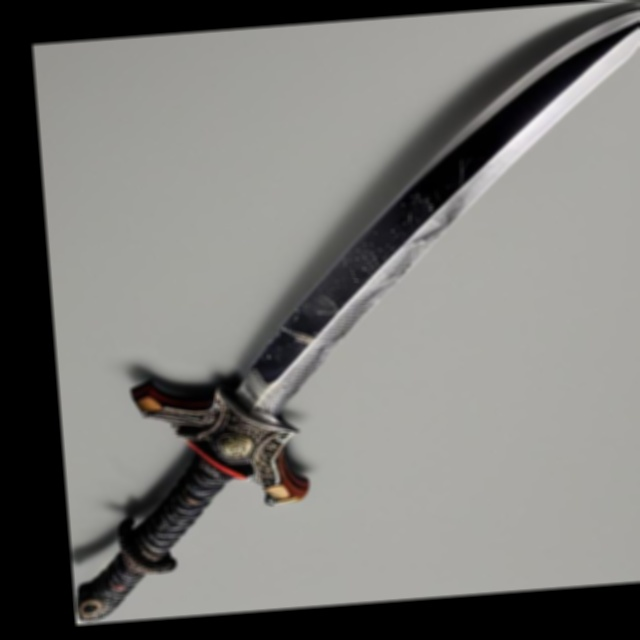Sharp-Object: (33, 0, 640, 625)
